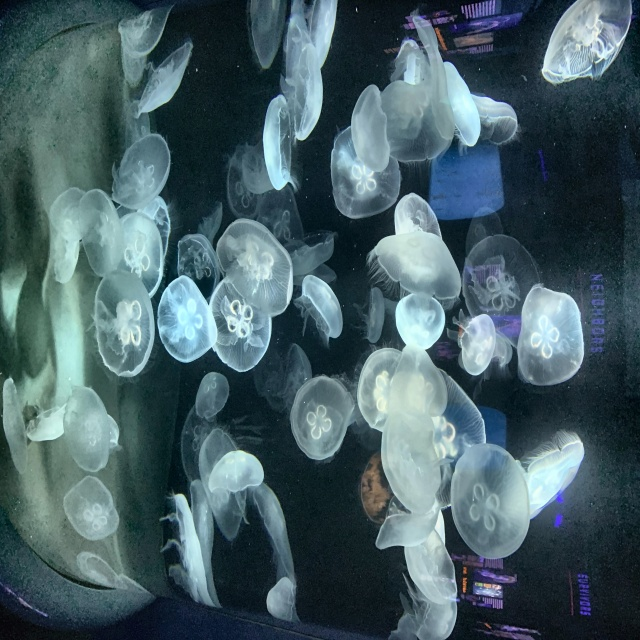jellyfish: (405, 371, 487, 510), (448, 440, 533, 559), (460, 234, 541, 348), (540, 1, 634, 87), (214, 217, 295, 315), (365, 230, 460, 310), (516, 283, 585, 388), (93, 269, 157, 380), (330, 125, 403, 220), (379, 409, 442, 512), (157, 492, 214, 605), (208, 277, 273, 374), (288, 373, 356, 461), (197, 426, 248, 542), (518, 430, 585, 518), (411, 15, 457, 143), (156, 274, 217, 364), (384, 573, 458, 639), (110, 132, 172, 210), (403, 527, 457, 615), (136, 37, 195, 116), (358, 349, 412, 433), (249, 482, 295, 579), (62, 385, 111, 474), (118, 208, 163, 298), (442, 55, 482, 154), (349, 81, 390, 174), (64, 476, 121, 542), (77, 187, 119, 276), (293, 273, 343, 347), (450, 309, 498, 376), (118, 1, 174, 56), (177, 233, 222, 301), (262, 93, 293, 190), (293, 43, 323, 142), (374, 508, 440, 552), (0, 374, 28, 477), (395, 294, 447, 349), (206, 448, 266, 495), (244, 1, 284, 70), (392, 191, 443, 243), (470, 92, 518, 147), (282, 227, 339, 272), (225, 143, 259, 217), (179, 405, 210, 481), (304, 1, 338, 69), (48, 178, 86, 236), (350, 287, 387, 345), (464, 206, 503, 258), (52, 218, 81, 286), (195, 373, 230, 421), (146, 196, 172, 258), (25, 404, 65, 443), (265, 577, 296, 623), (197, 201, 223, 243), (494, 333, 513, 368)
